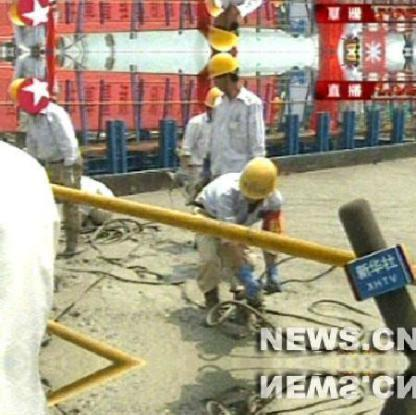helmet: (236, 152, 278, 199), (204, 53, 243, 86), (4, 76, 29, 108)
